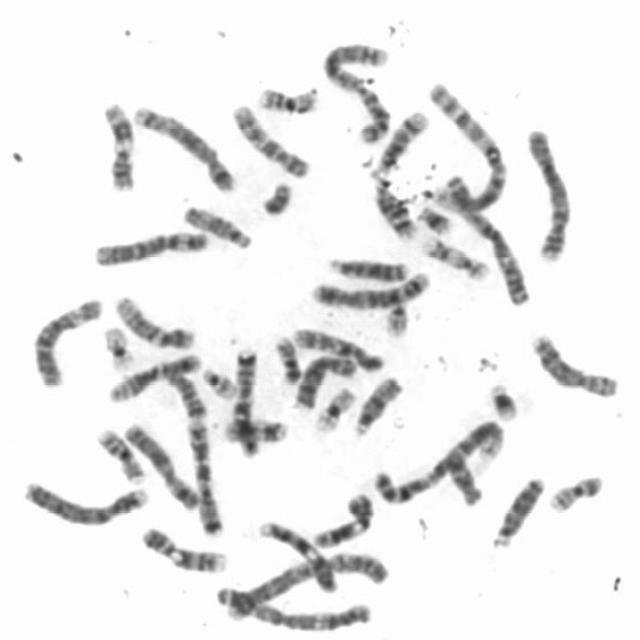A1: (371, 417, 507, 509), (423, 80, 511, 216)
A2: (225, 552, 390, 622), (322, 40, 392, 146)
A3: (444, 172, 532, 310), (212, 584, 372, 634)
B4: (525, 127, 574, 266), (21, 479, 151, 527)
B5: (133, 104, 240, 195), (310, 271, 433, 311)
C10: (230, 104, 314, 179), (292, 325, 387, 374)
C11: (312, 491, 378, 549), (102, 104, 136, 194)
C12: (107, 351, 203, 404), (114, 294, 195, 351)
C6: (30, 296, 106, 390), (90, 229, 209, 269)
C7: (184, 420, 224, 538), (234, 346, 263, 457)
C8: (529, 332, 624, 402), (291, 353, 356, 412)
C9: (256, 521, 341, 596), (138, 525, 228, 573)
D13: (491, 476, 546, 549), (325, 256, 410, 283)
D14: (369, 109, 431, 180), (371, 178, 417, 242)
D15: (351, 374, 406, 441), (183, 206, 255, 252)
E16: (94, 428, 147, 483), (254, 84, 320, 117)
E17: (418, 235, 490, 281), (222, 414, 288, 448)
E18: (442, 452, 484, 508), (165, 370, 207, 419)
F19: (313, 385, 359, 434), (100, 326, 139, 375)
F20: (547, 473, 607, 513), (273, 334, 302, 386)
G21: (489, 380, 522, 424), (417, 205, 455, 238)
G22: (200, 366, 237, 400), (384, 301, 412, 339)
X: (123, 422, 200, 512)
Y: (258, 182, 292, 218)
